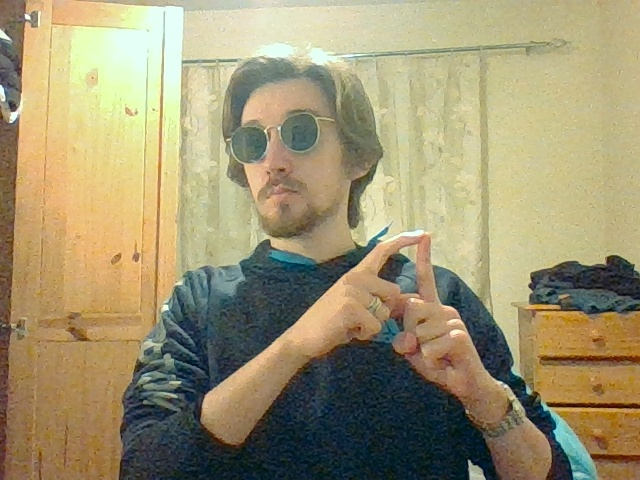daughter: (353, 230, 454, 338)
